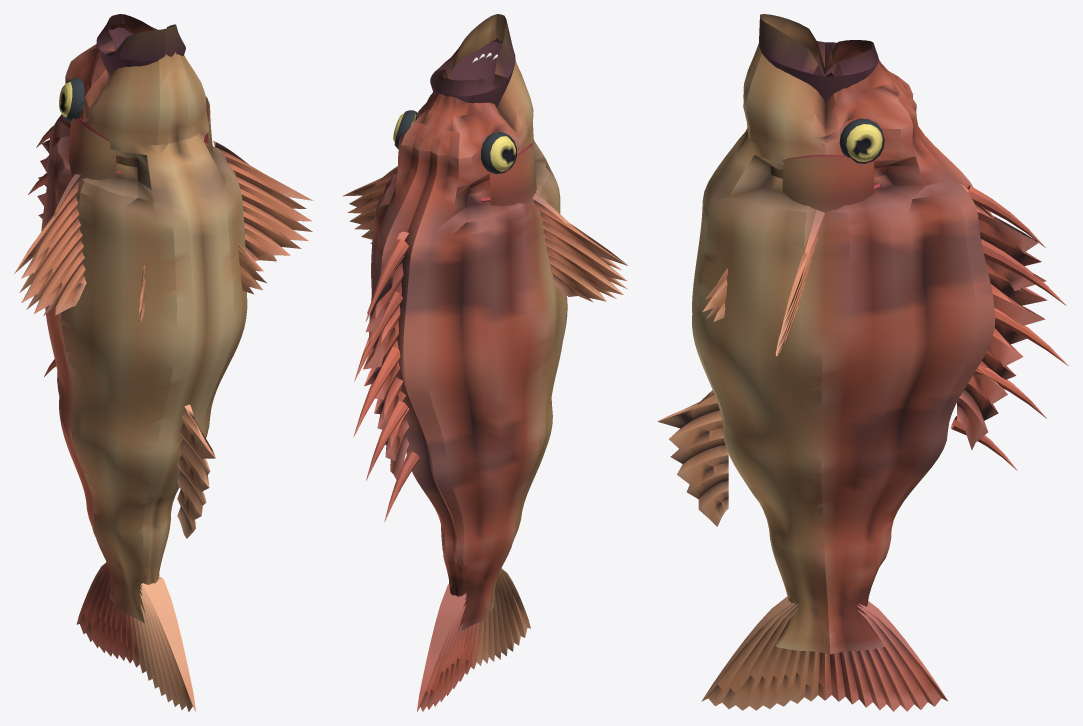
File: fish_rockfish.glb
The picture shows the model from 3 angles, left to right: view 1: azimuth 30°, elevation 25°; view 2: azimuth 150°, elevation 25°; view 3: azimuth 270°, elevation 25°; orthographic projection. The views are drawn at different scales.
Visible parts, largest first — view 1: Fish_rockfish; view 2: Fish_rockfish; view 3: Fish_rockfish.
Boxes of the visible parts, x1=… form: Fish_rockfish: x1=14, y1=14, x2=313, y2=711; Fish_rockfish: x1=342, y1=14, x2=628, y2=711; Fish_rockfish: x1=657, y1=14, x2=1068, y2=711.
Size of the model in its own units: 0.4326 by 0.9277 by 0.4964.
